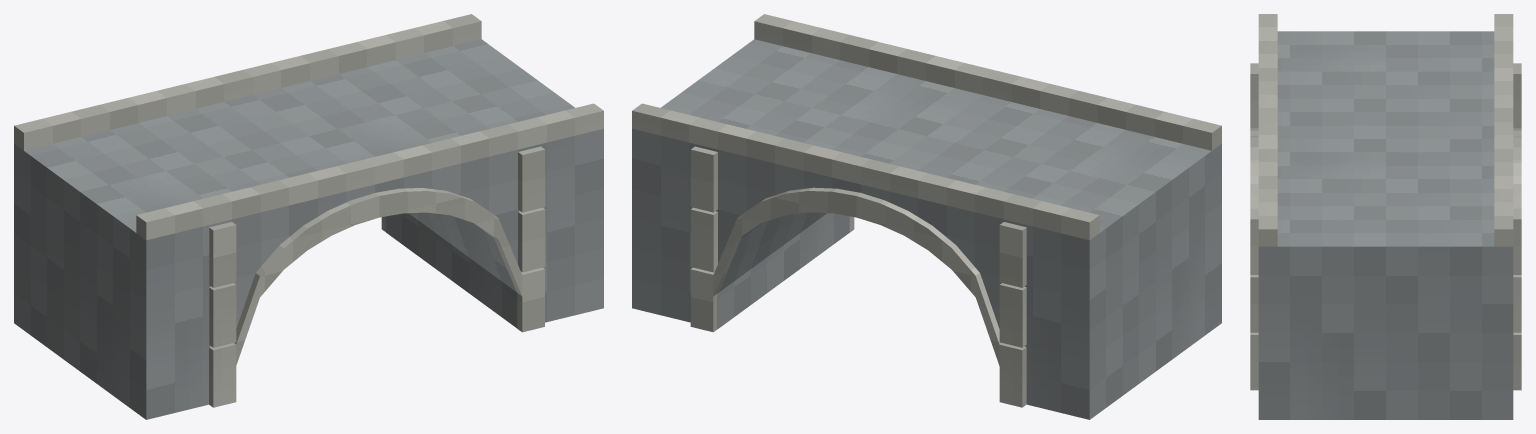
The model's file is dungeon-room-builder-bridge-stone-b5d2e83d__25800.glb.
The picture shows the model from 3 angles, left to right: view 1: azimuth 30°, elevation 25°; view 2: azimuth 150°, elevation 25°; view 3: azimuth 270°, elevation 25°; orthographic projection. The views are drawn at different scales.
Parts seen in each view (by area): view 1: bridge-stone; view 2: bridge-stone; view 3: bridge-stone.
Boxes of the visible parts, x1,y1,x2,y2 form: bridge-stone: (14,14,603,419); bridge-stone: (632,14,1221,419); bridge-stone: (1250,14,1521,419).
Size of the model in its own units: 4 by 1.65 by 2.13.
Materials: 2 (2 with a texture image).
